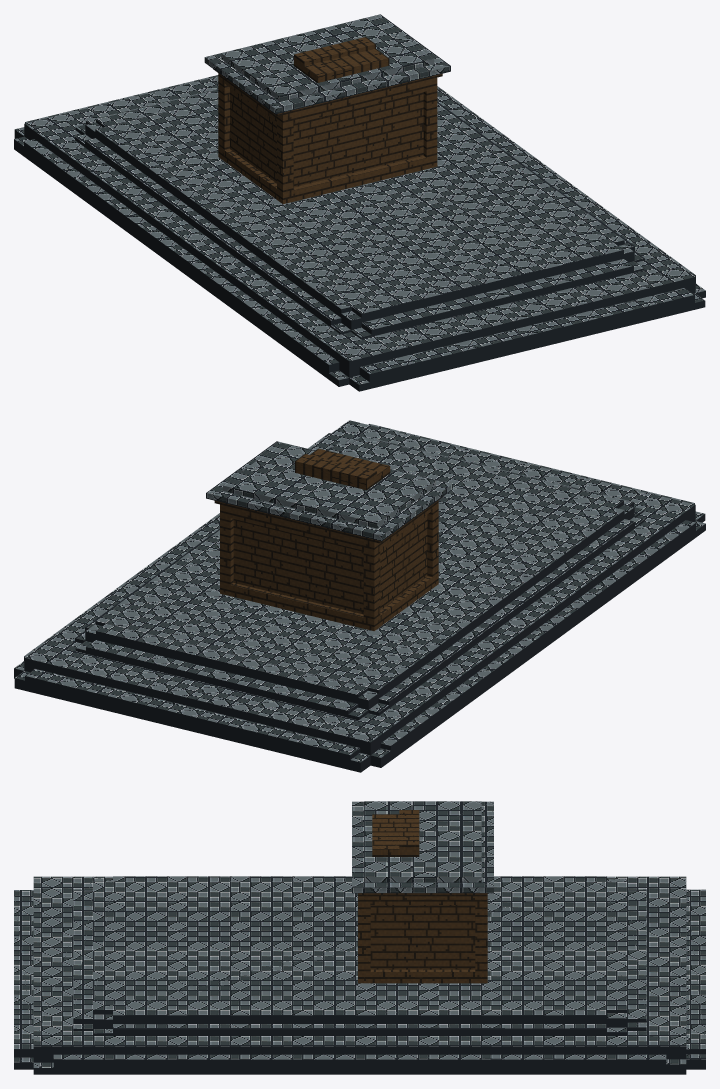
File: altar.fbx
3 renders of one model, top to bottom at view 1: azimuth 30°, elevation 25°; view 2: azimuth 150°, elevation 25°; view 3: azimuth 270°, elevation 25°, orthographic.
Parts seen in each view (by area): view 1: stand, table, stand-book; view 2: stand, table, stand-book; view 3: stand, table, stand-book.
Boxes of the visible parts, x1,y1,x2,y2 form: stand: (14,75,705,391); table: (204,14,450,204); stand-book: (294,37,389,82); stand: (14,420,705,772); table: (206,441,452,630); stand-book: (295,448,390,490); stand: (14,876,705,1074); table: (352,801,493,983); stand-book: (372,810,419,856).
Size of the model in its own units: 769 by 313 by 1251.
Materials: 5 (5 with a texture image).
